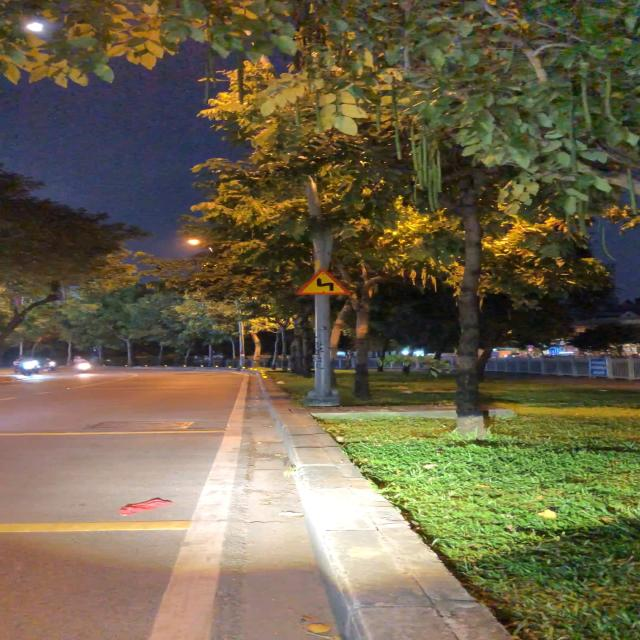Bien bao nhieu cho ngoat nguy hiem lien tiep: (293, 266, 355, 297)
